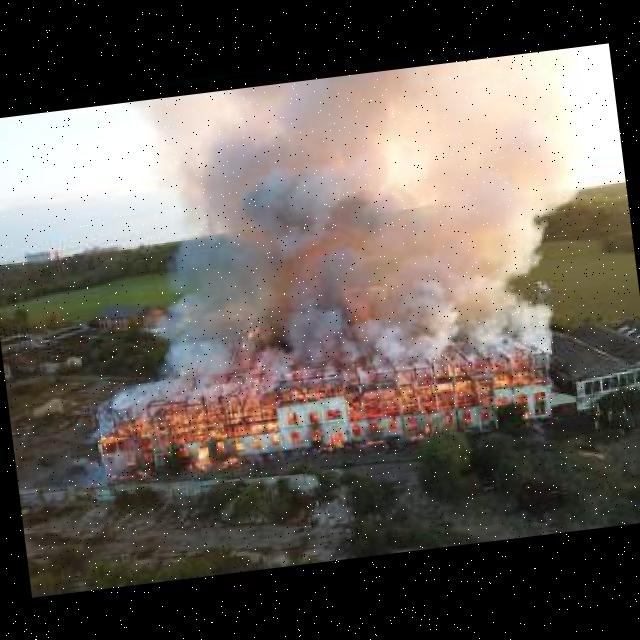fire: (94, 333, 562, 496)
